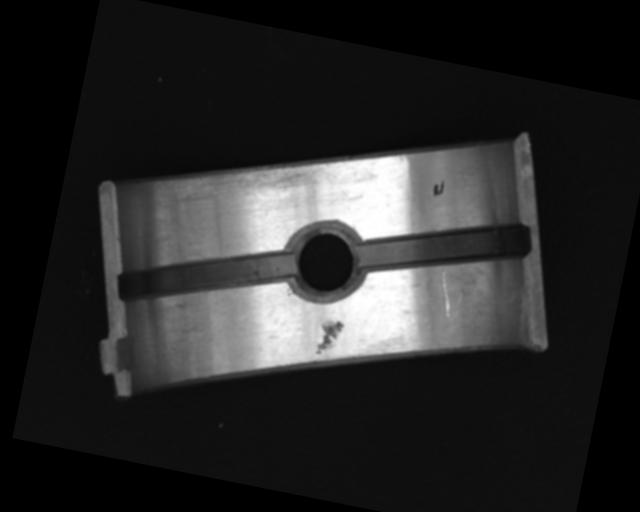blot: (431, 177, 447, 198)
bruise: (312, 316, 344, 360)
gap: (116, 222, 297, 330), (356, 196, 532, 298)
hole: (282, 215, 368, 307)
nick: (433, 269, 460, 319)
scratch: (163, 131, 326, 231)
